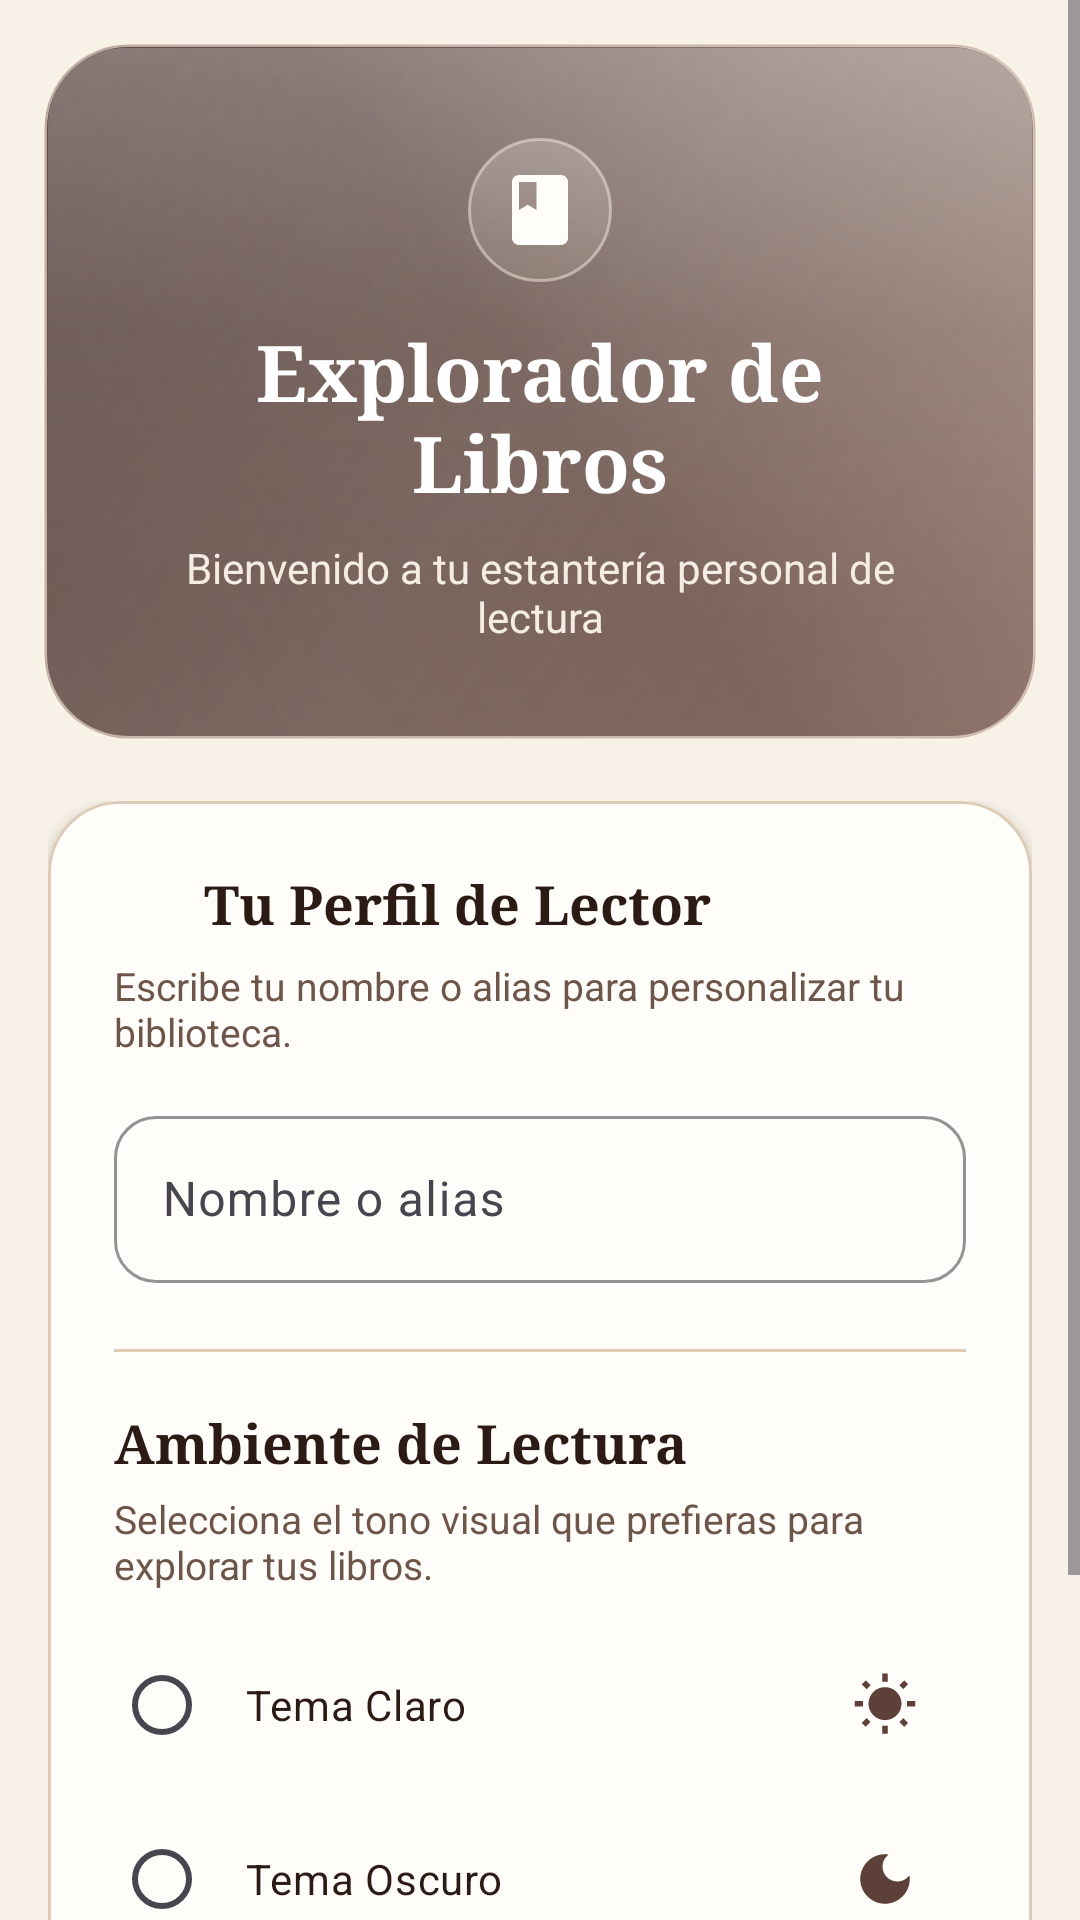

Icon click points for this 1080 × 1920 phone screenshot, format [x,y]:
Icono de biblioteca: [540,210]
